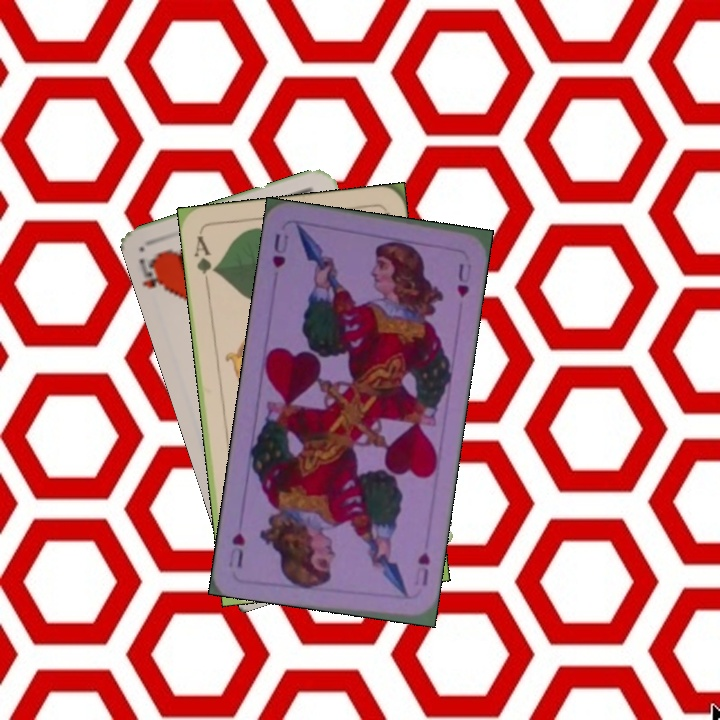GA: (189, 231, 219, 290)
HO: (134, 251, 170, 294)
HU: (268, 229, 291, 270), (410, 548, 433, 589)
